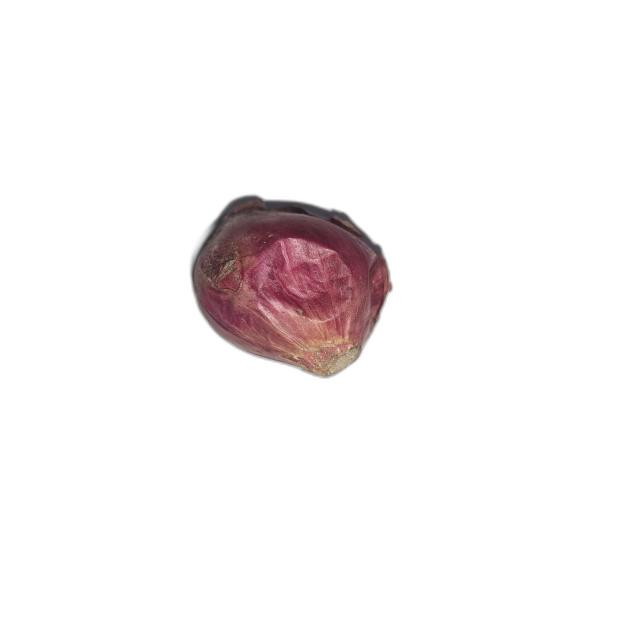onion: (191, 199, 394, 379)
